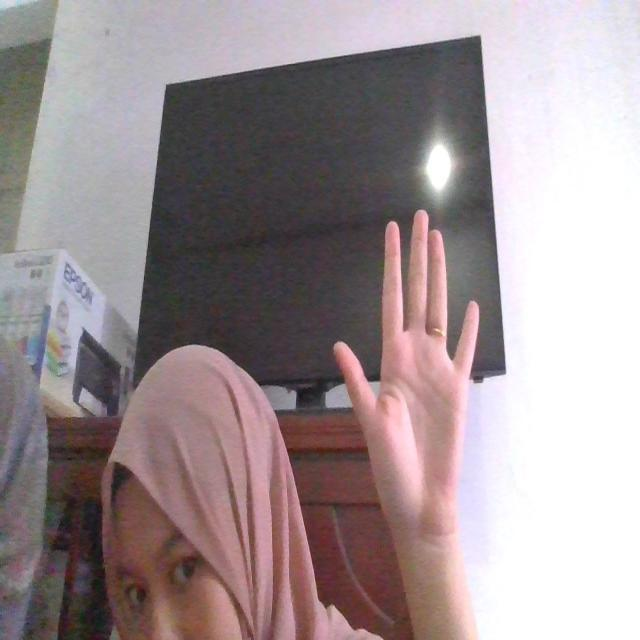hand: (334, 205, 484, 546)
